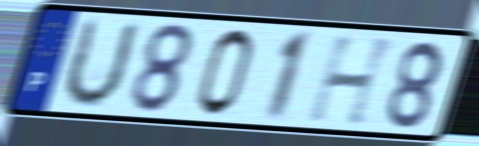0: (194, 26, 257, 118)
1: (266, 27, 320, 125)
8: (128, 22, 195, 115), (386, 38, 444, 130)
H: (304, 33, 402, 129)
U: (56, 15, 143, 111)
